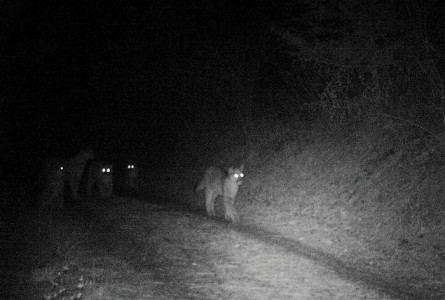mountain lion: (177, 163, 272, 230), (32, 147, 91, 199), (94, 151, 120, 201), (128, 156, 139, 201)
